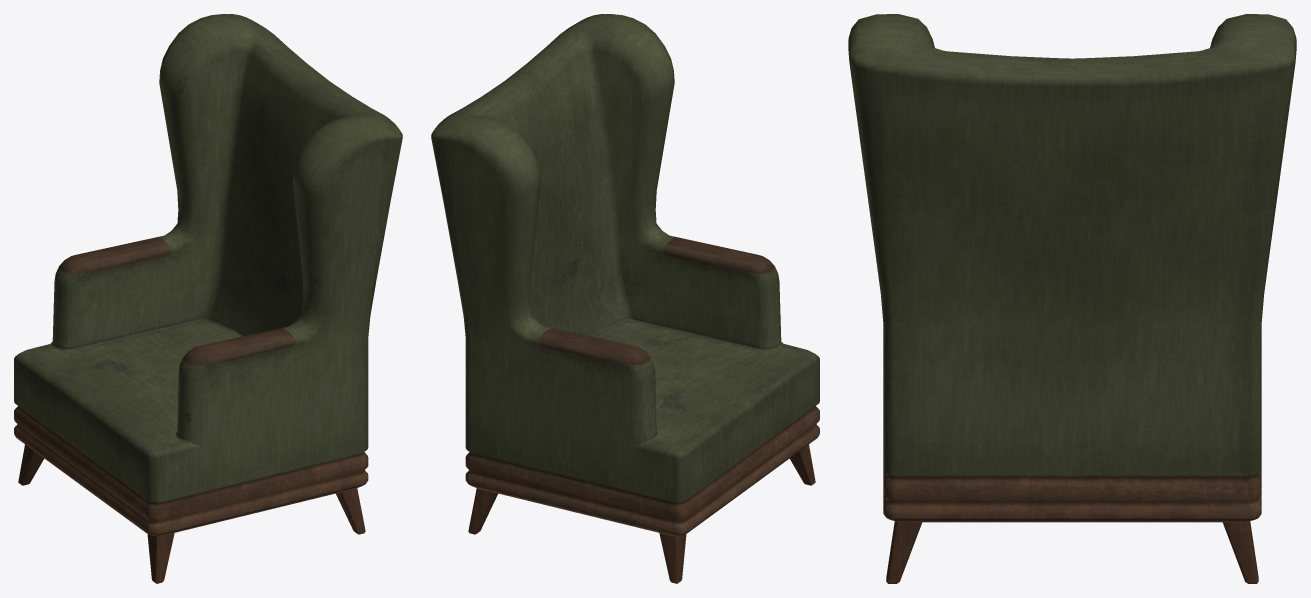
File: chair.obj
The picture shows the model from 3 angles, left to right: view 1: azimuth 30°, elevation 25°; view 2: azimuth 150°, elevation 25°; view 3: azimuth 270°, elevation 25°; orthographic projection. The views are drawn at different scales.
Visible parts, largest first — view 1: Cube.1629_Material.1257565_0.001; view 2: Cube.1629_Material.1257565_0.001; view 3: Cube.1629_Material.1257565_0.001.
Part boxes in pixels (left/top/right/bottom): Cube.1629_Material.1257565_0.001: left=14, top=14, right=402, bottom=583; Cube.1629_Material.1257565_0.001: left=431, top=14, right=819, bottom=583; Cube.1629_Material.1257565_0.001: left=848, top=14, right=1296, bottom=583.
Bounding box in the file's own units: 5.02 × 7.85 × 5.75.
1 material, 1 textured.
